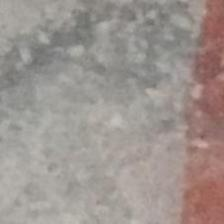Non_Crack: (37, 42, 186, 217)
